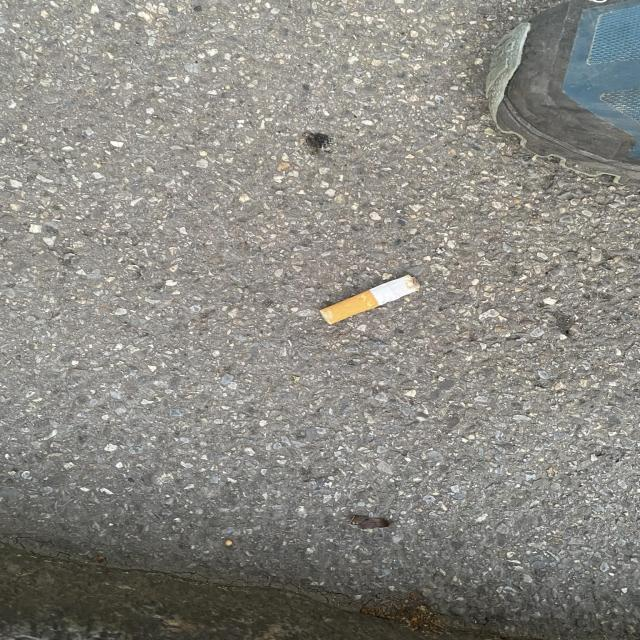other waste: (319, 274, 420, 325)
